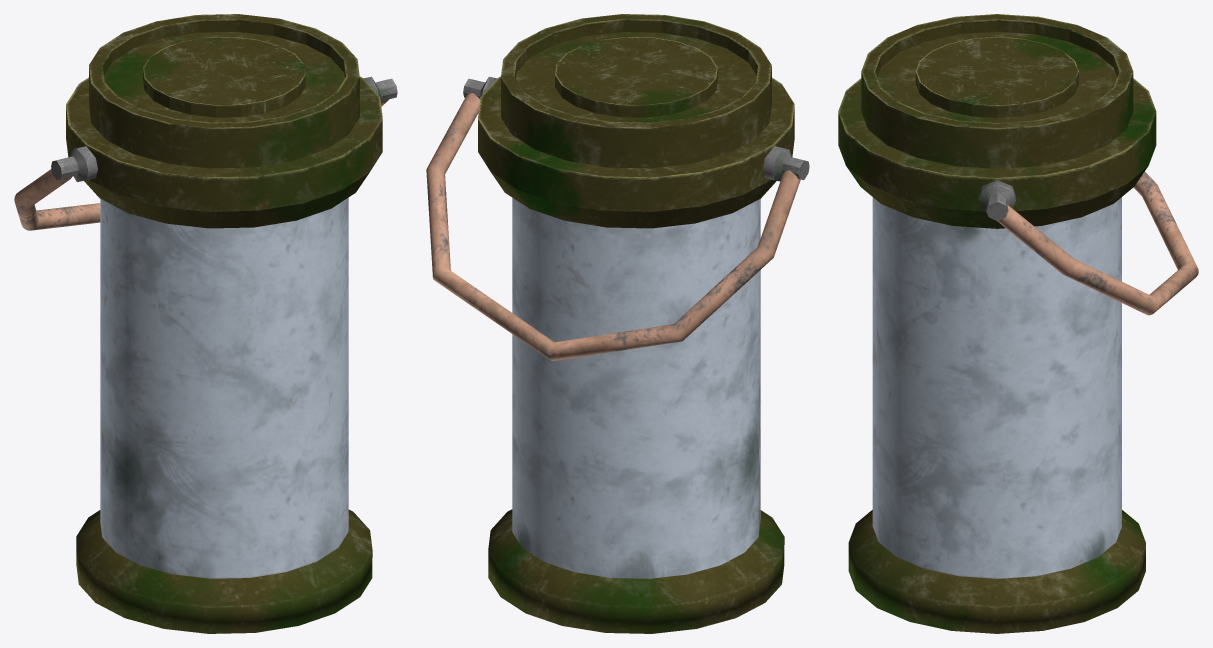
File: Lampara_MP.fbx
The picture shows the model from 3 angles, left to right: view 1: azimuth 30°, elevation 25°; view 2: azimuth 150°, elevation 25°; view 3: azimuth 270°, elevation 25°; orthographic projection.
Parts seen in each view (by area): view 1: Lampara_LOD1; view 2: Lampara_LOD1; view 3: Lampara_LOD1.
Boxes of the visible parts, x1=… form: Lampara_LOD1: x1=14, y1=14, x2=397, y2=633; Lampara_LOD1: x1=426, y1=14, x2=809, y2=633; Lampara_LOD1: x1=838, y1=14, x2=1198, y2=633.
Size of the model in its own units: 5.25 by 7.25 by 4.74.
